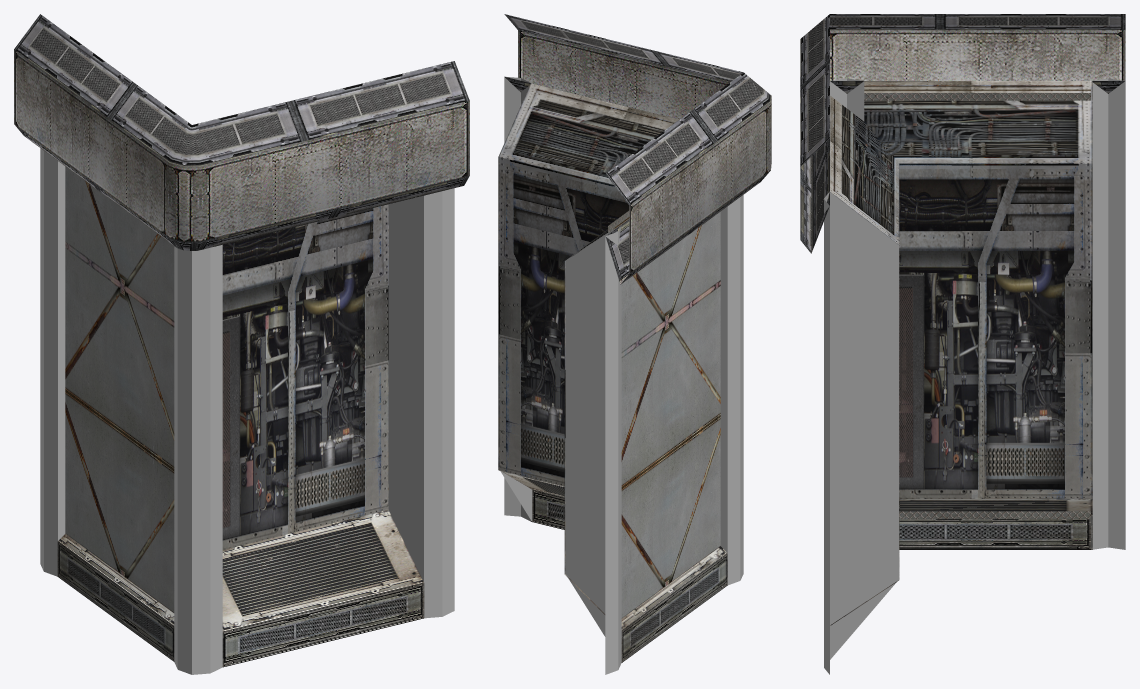
Rendered from Wall_E_Mid4mts_24.fbx.
3 renders of one model, left to right at view 1: azimuth 30°, elevation 25°; view 2: azimuth 150°, elevation 25°; view 3: azimuth 270°, elevation 25°, orthographic. The views are drawn at different scales.
Visible parts, largest first — view 1: Wall_Framework, Wall_E_Mid4mts_28; view 2: Wall_Framework, Wall_E_Mid4mts_28; view 3: Wall_Framework, Metal Grid.
Boxes of the visible parts, box(x1,y1,x2,y2) form: Wall_Framework: box(14, 14, 469, 674); Wall_E_Mid4mts_28: box(65, 166, 174, 612); Wall_Framework: box(498, 14, 771, 674); Wall_E_Mid4mts_28: box(614, 211, 720, 618); Wall_Framework: box(800, 14, 1125, 674); Metal Grid: box(864, 93, 1090, 519).
Size of the model in its own units: 220 by 400 by 220.
